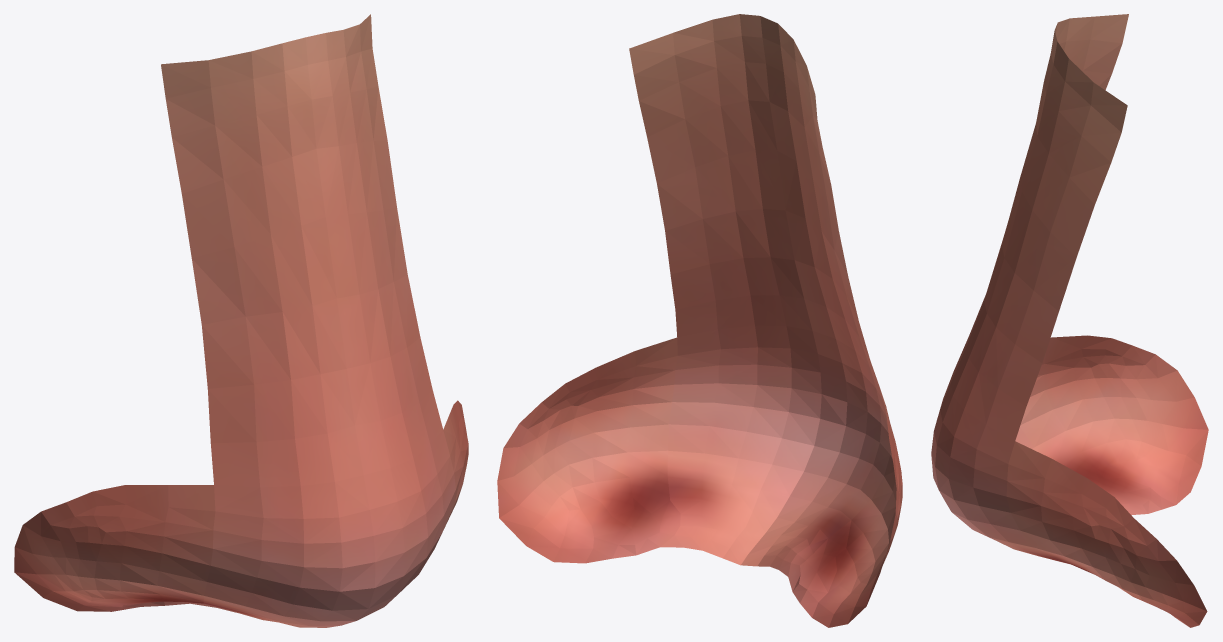
The model's file is euro-fem-nose-short.obj.
The picture shows the model from 3 angles, left to right: view 1: azimuth 30°, elevation 25°; view 2: azimuth 150°, elevation 25°; view 3: azimuth 270°, elevation 25°; orthographic projection. The views are drawn at different scales.
Parts seen in each view (by area): view 1: euro-fem-nose-short.001; view 2: euro-fem-nose-short.001; view 3: euro-fem-nose-short.001.
Boxes of the visible parts, box(x1,y1,x2,y2) form: euro-fem-nose-short.001: box(14, 14, 468, 627); euro-fem-nose-short.001: box(497, 14, 902, 627); euro-fem-nose-short.001: box(931, 14, 1208, 627).
Bounding box in the file's own units: 0.1623 × 0.2144 × 0.1008.
1 material, 1 textured.
